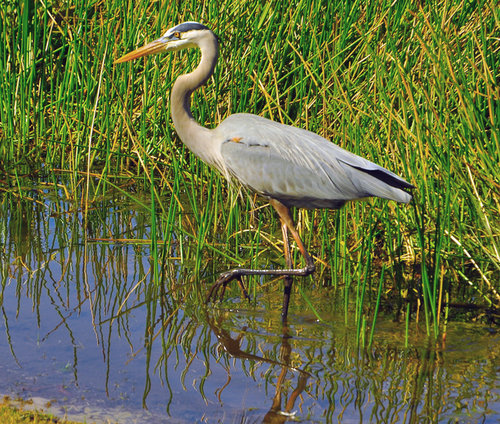heron: (107, 19, 417, 314)
